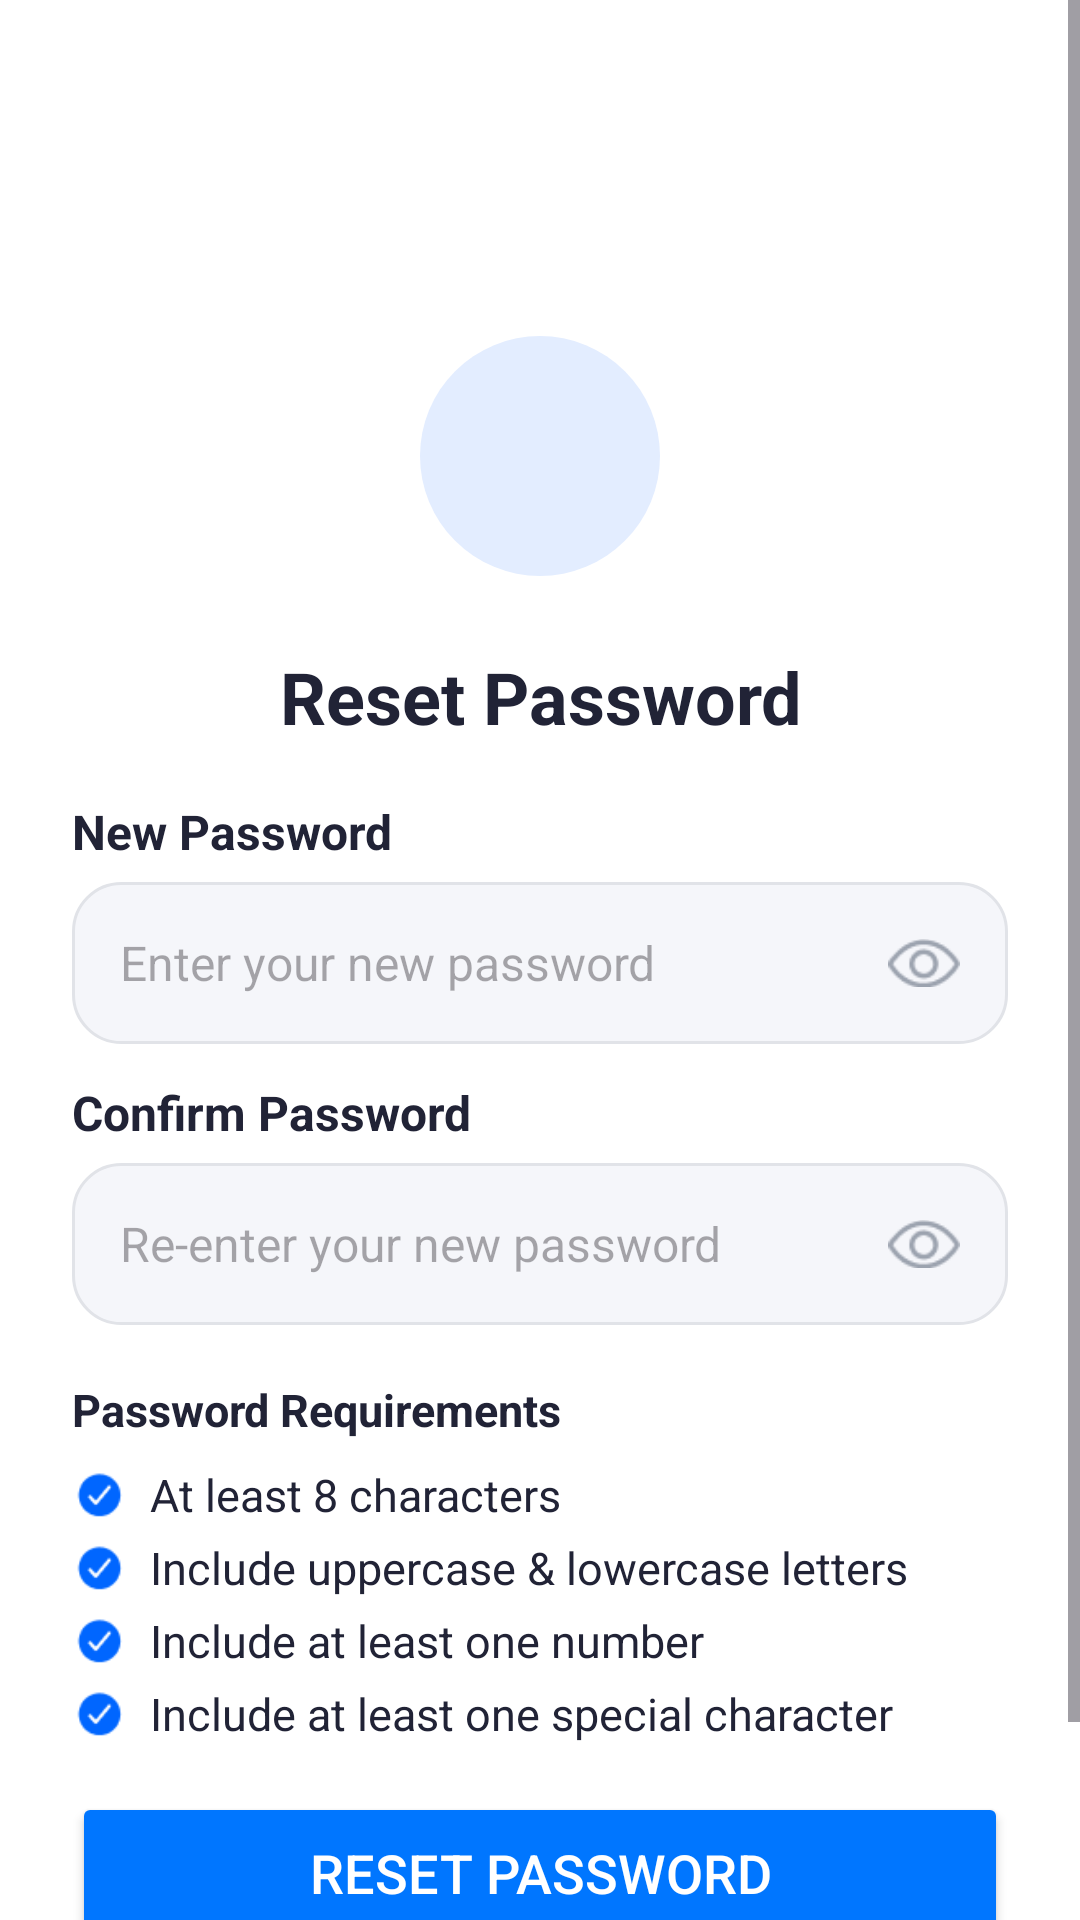

Icons on this 1080x1920 Android screen, each with the point to tap as (x=x, y=y):
check: (x=99, y=1495), (x=99, y=1568), (x=99, y=1641), (x=99, y=1714)
eye: (x=924, y=963), (x=924, y=1244)
